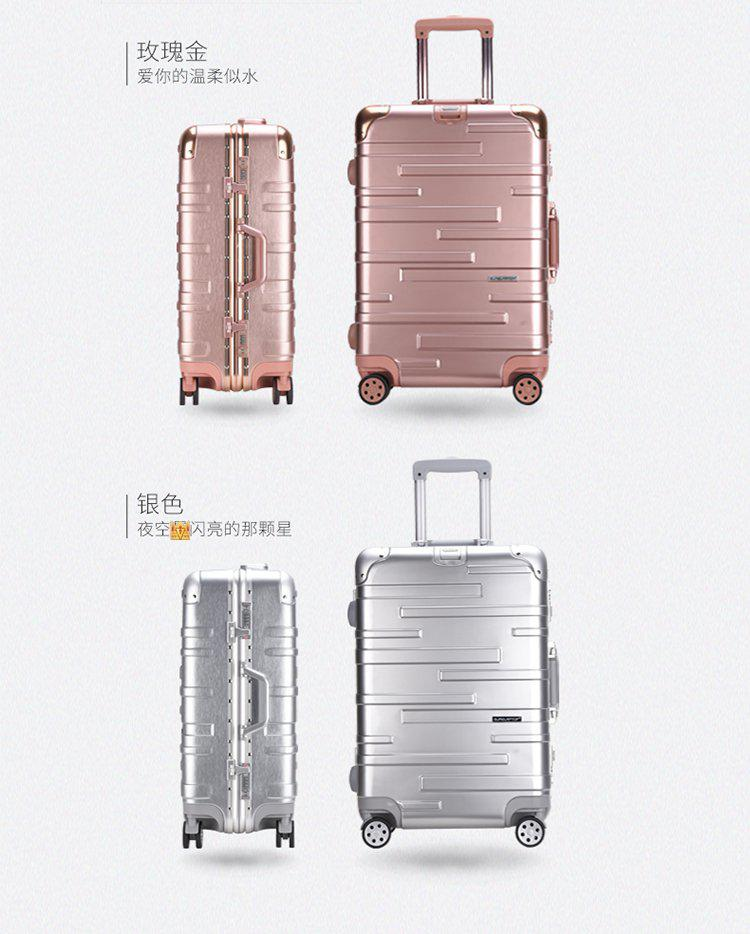luggage: (347, 15, 561, 406), (346, 459, 560, 845), (175, 118, 300, 406), (176, 560, 300, 850)
